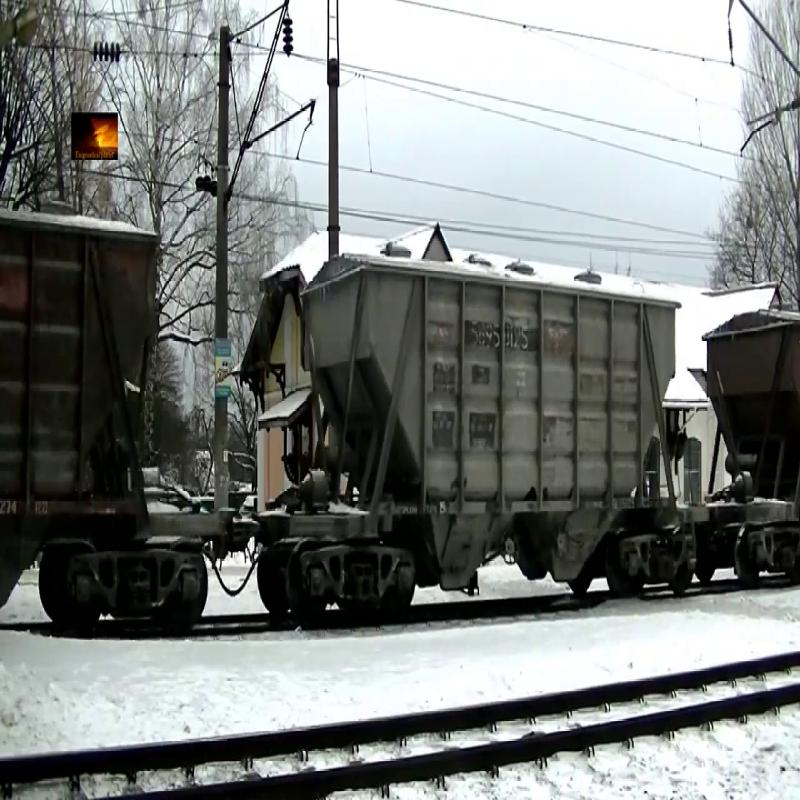train: (248, 250, 676, 614), (1, 207, 186, 615)
